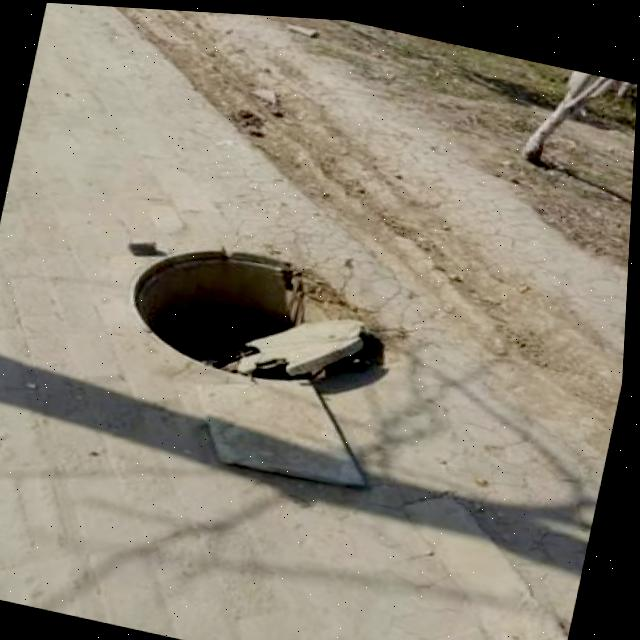manhole: (112, 215, 412, 409)
